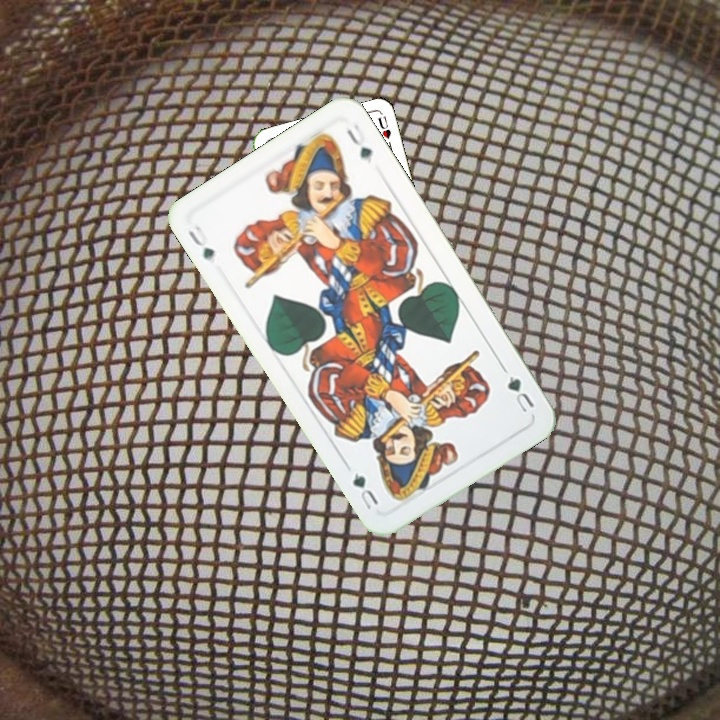GU: (503, 371, 537, 415), (183, 221, 217, 264)
